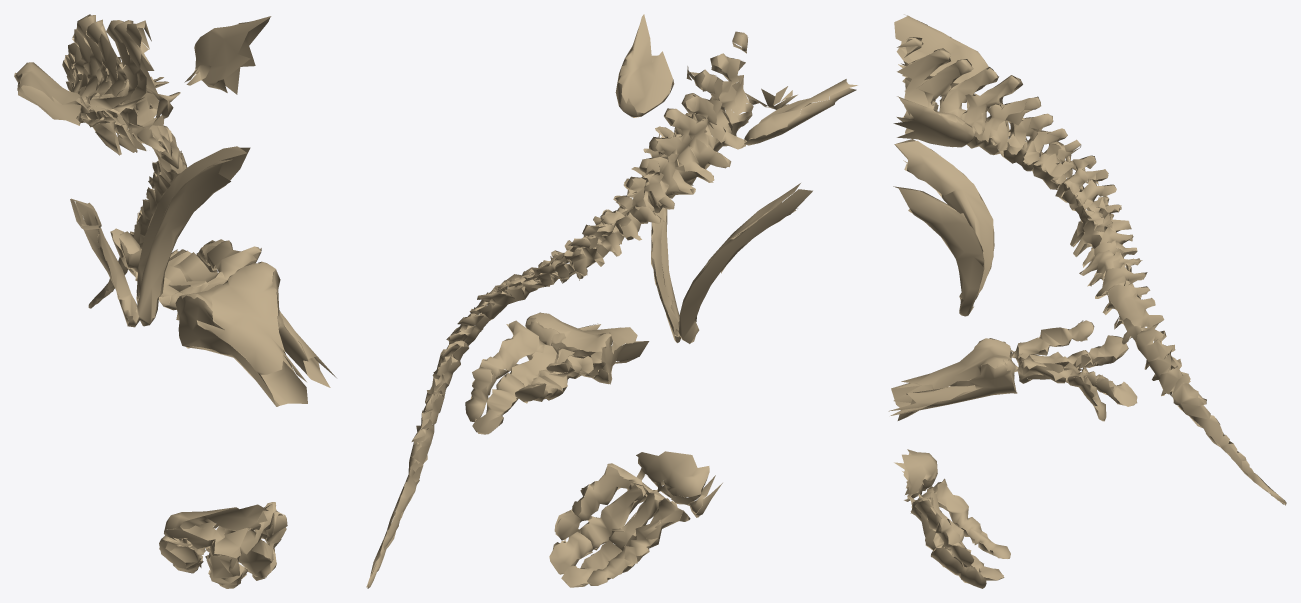
File: FossilScan4.glb
3 views of the same model, side by side, from view 1: azimuth 30°, elevation 25°; view 2: azimuth 150°, elevation 25°; view 3: azimuth 270°, elevation 25° (orthographic). The views are drawn at different scales.
Visible parts, largest first — view 1: FossilScan4; view 2: FossilScan4; view 3: FossilScan4.
Boxes of the visible parts, left/top/right/bottom form: FossilScan4: left=14, top=14, right=336, bottom=588; FossilScan4: left=366, top=14, right=857, bottom=588; FossilScan4: left=888, top=14, right=1286, bottom=588.
Size of the model in its own units: 7.34 by 13.55 by 10.
